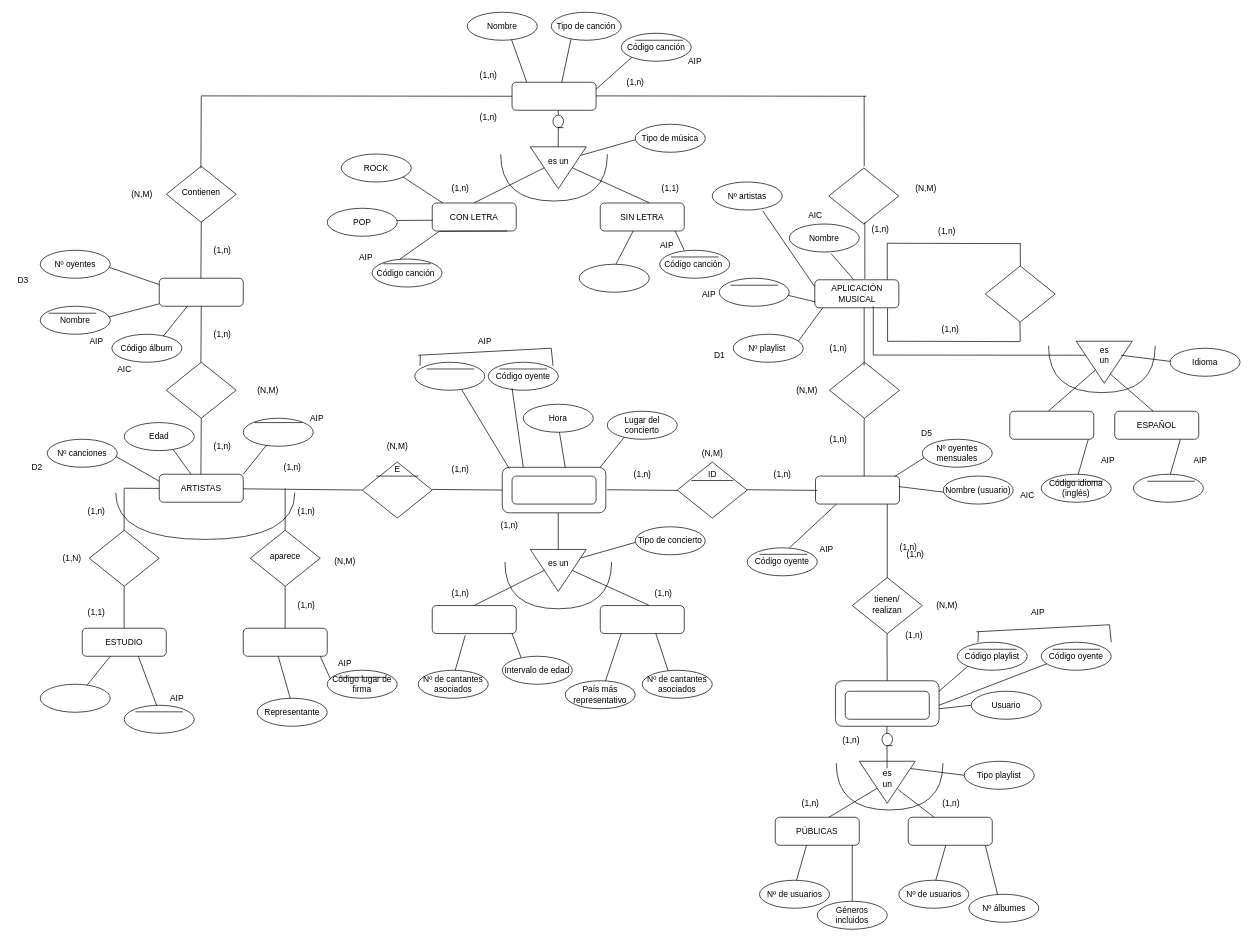
This 1252x942 diagram has some shape labels left out. The shapes that lost their labels are listed below. From the top down, each one's box as (x1, y1, x2, y2) in pixels, then its label:
(511, 82, 596, 110): CANCIONES
(828, 167, 899, 224): almacenadas
(159, 278, 243, 306): ÁLBUMES
(579, 264, 649, 292): ELECTRÓNICA
(719, 278, 789, 306): Código app
(985, 265, 1055, 322): Depende
(166, 362, 236, 418): Crea
(414, 362, 485, 390): Código concierto
(829, 362, 899, 418): Intervienen
(243, 418, 313, 446): Nombre artístico
(1009, 411, 1094, 439): INGLÉS
(362, 461, 432, 518): hace
(511, 475, 596, 504): CONCIERTOS
(677, 461, 747, 518): acuden
(815, 475, 899, 504): OYENTES
(1133, 474, 1203, 502): Código idioma (español)
(89, 530, 159, 586): está
(432, 605, 516, 634): TRAP
(600, 605, 684, 634): FLAMENCO
(243, 628, 327, 656): FIRMAS DE DISCOS
(40, 684, 110, 712): Productores
(845, 691, 929, 719): PLAYLIST
(124, 705, 194, 733): Compañía discográfica
(908, 817, 992, 845): PRIVADAS
